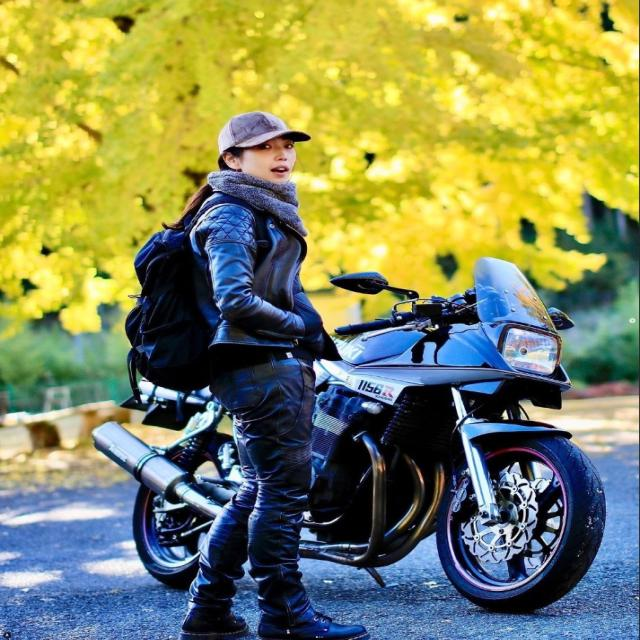illegal_helmet: (211, 106, 313, 190)
